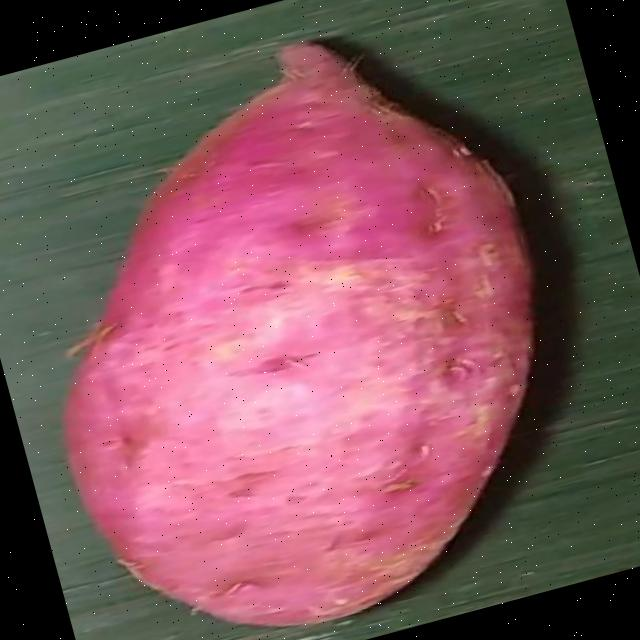Sweet Potato: (60, 37, 530, 626)
